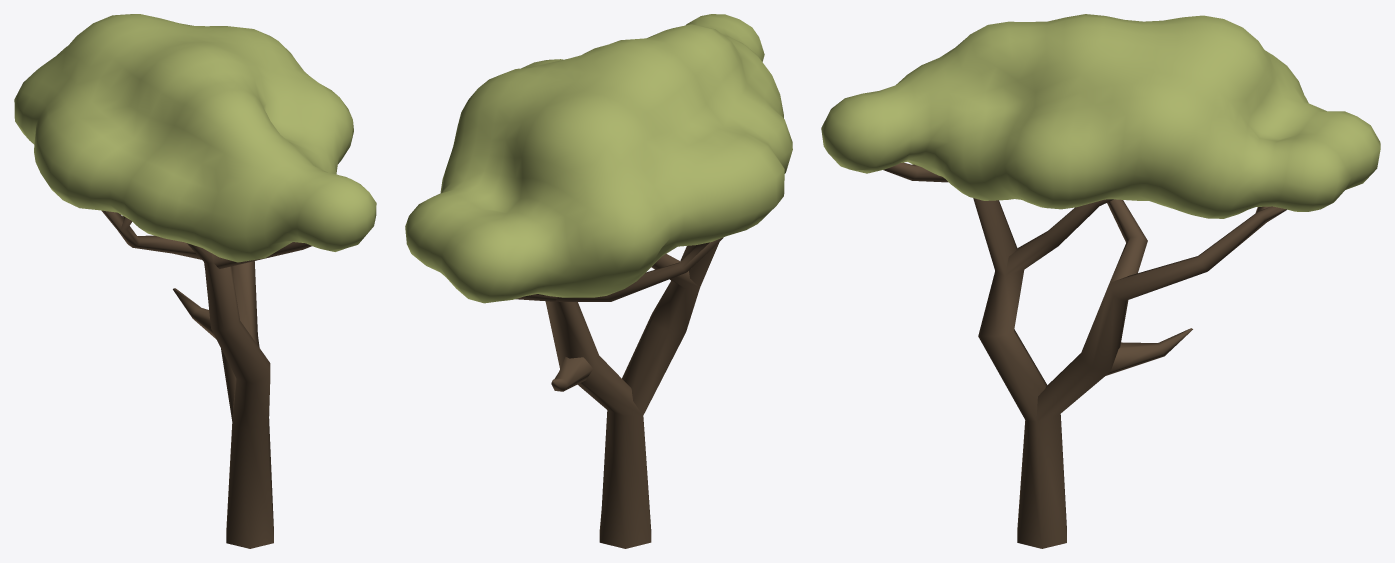
The model's file is tree.fbx.
The picture shows the model from 3 angles, left to right: view 1: azimuth 30°, elevation 25°; view 2: azimuth 150°, elevation 25°; view 3: azimuth 270°, elevation 25°; orthographic projection. The views are drawn at different scales.
Parts seen in each view (by area): view 1: Tree; view 2: Tree; view 3: Tree.
Part boxes in pixels (x1,y1,x2,y2): Tree: (14,14,376,548); Tree: (405,14,792,548); Tree: (821,14,1380,548).
Bounding box in the file's own units: 710 × 1178 × 1197.
